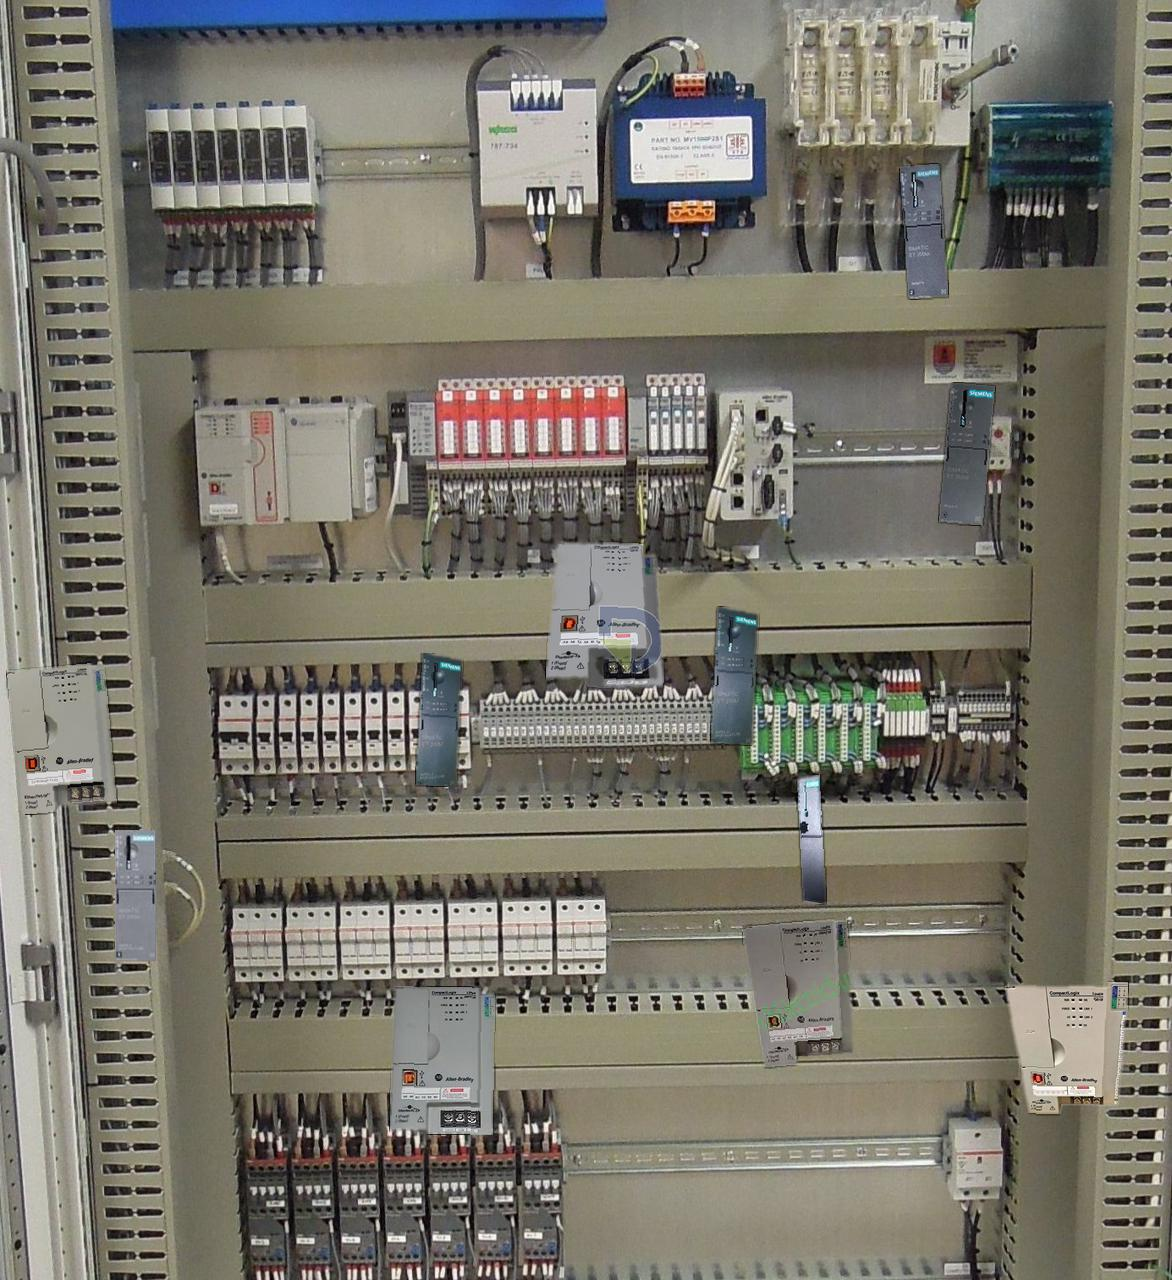AllenBradley: (546, 542, 664, 687), (7, 663, 116, 814), (742, 920, 852, 1066), (1005, 982, 1127, 1113), (390, 987, 493, 1134)
Siemens: (798, 774, 825, 903)
